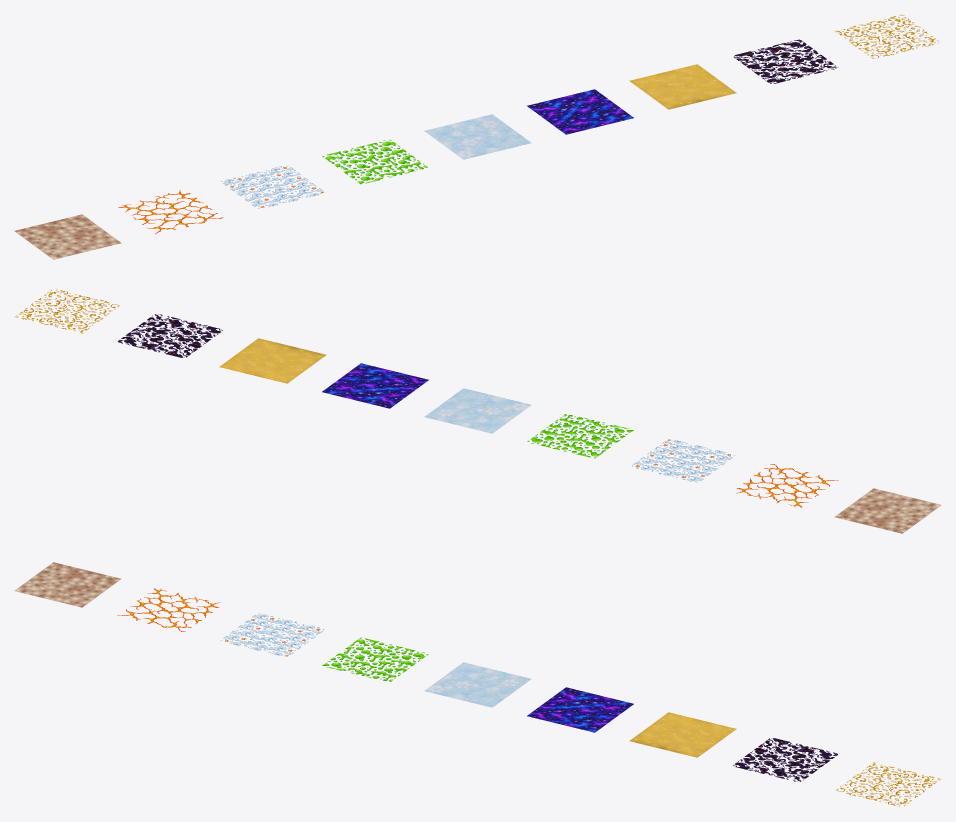
Rendered from EggTextures.fbx.
3 renders of one model, top to bottom at view 1: azimuth 30°, elevation 25°; view 2: azimuth 150°, elevation 25°; view 3: azimuth 330°, elevation 25°, orthographic.
Visible parts, largest first — view 1: Tex_Galaxy, Tex_Common, Tex_Frost, Tex_Cosmic, Tex_Shadow, Tex_Ocean, Tex_Toxic, Tex_Divine, Tex_Lava; view 2: Tex_Galaxy, Tex_Common, Tex_Frost, Tex_Cosmic, Tex_Shadow, Tex_Ocean, Tex_Toxic, Tex_Divine, Tex_Lava; view 3: Tex_Galaxy, Tex_Common, Tex_Frost, Tex_Cosmic, Tex_Shadow, Tex_Ocean, Tex_Toxic, Tex_Divine, Tex_Lava.
Part boxes in pixels (bbox=[...]): Tex_Galaxy: bbox=[527, 89, 633, 134]; Tex_Common: bbox=[14, 214, 121, 259]; Tex_Frost: bbox=[424, 114, 531, 159]; Tex_Cosmic: bbox=[629, 64, 736, 109]; Tex_Shadow: bbox=[733, 39, 837, 83]; Tex_Ocean: bbox=[221, 165, 323, 208]; Tex_Toxic: bbox=[322, 139, 427, 184]; Tex_Divine: bbox=[834, 14, 939, 58]; Tex_Lava: bbox=[118, 190, 222, 234]; Tex_Galaxy: bbox=[322, 363, 428, 408]; Tex_Common: bbox=[834, 488, 941, 533]; Tex_Frost: bbox=[424, 388, 531, 433]; Tex_Cosmic: bbox=[219, 338, 326, 383]; Tex_Shadow: bbox=[118, 314, 222, 357]; Tex_Ocean: bbox=[632, 439, 734, 482]; Tex_Toxic: bbox=[527, 414, 633, 458]; Tex_Divine: bbox=[14, 289, 119, 333]; Tex_Lava: bbox=[736, 464, 838, 507]; Tex_Galaxy: bbox=[527, 687, 633, 732]; Tex_Common: bbox=[14, 562, 121, 607]; Tex_Frost: bbox=[424, 662, 531, 707]; Tex_Cosmic: bbox=[629, 712, 736, 757]; Tex_Shadow: bbox=[733, 738, 837, 781]; Tex_Ocean: bbox=[221, 613, 323, 656]; Tex_Toxic: bbox=[322, 637, 428, 681]; Tex_Divine: bbox=[836, 762, 941, 806]; Tex_Lava: bbox=[117, 588, 219, 631].
Size of the model in its own units: 130 by 1.63e-06 by 10.
9 materials, 9 textured.
